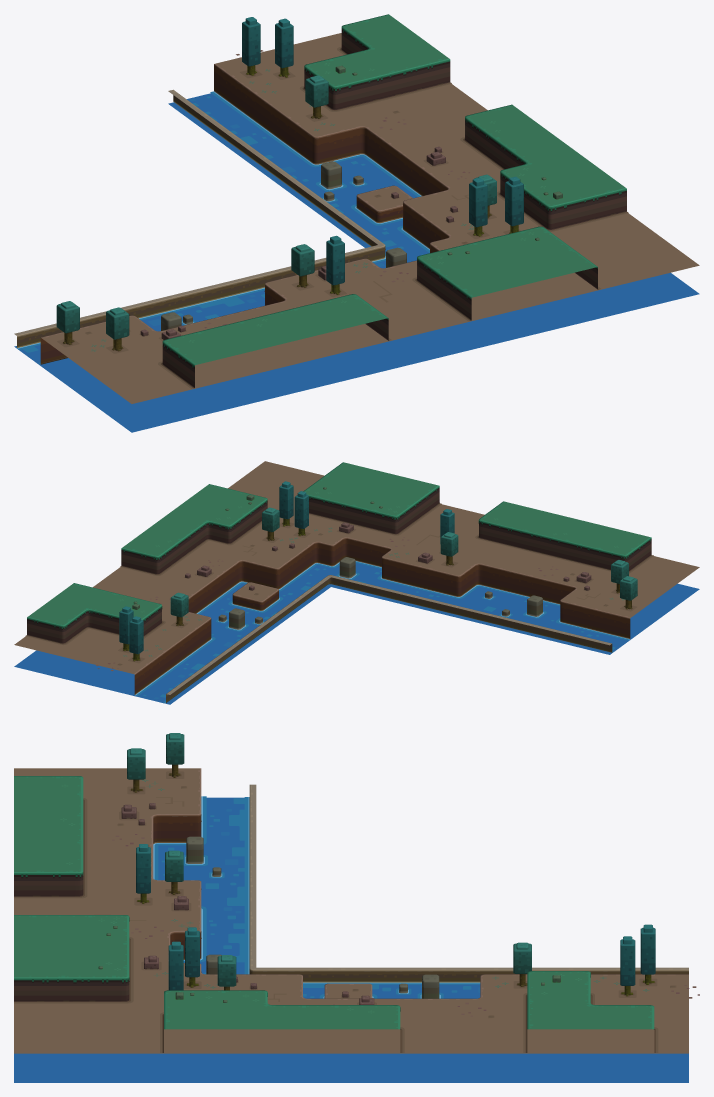
The model's file is C_water1_out_LU.fbx.
The picture shows the model from 3 angles, top to bottom: view 1: azimuth 30°, elevation 25°; view 2: azimuth 150°, elevation 25°; view 3: azimuth 270°, elevation 25°; orthographic projection. The views are drawn at different scales.
Visible parts, largest first — view 1: C_water1_out_LU; view 2: C_water1_out_LU; view 3: C_water1_out_LU.
Boxes of the visible parts, x1=… form: C_water1_out_LU: x1=14, y1=14, x2=699, y2=432; C_water1_out_LU: x1=14, y1=461, x2=699, y2=704; C_water1_out_LU: x1=14, y1=733, x2=699, y2=1082.
Size of the model in its own units: 117 by 16.47 by 119.
